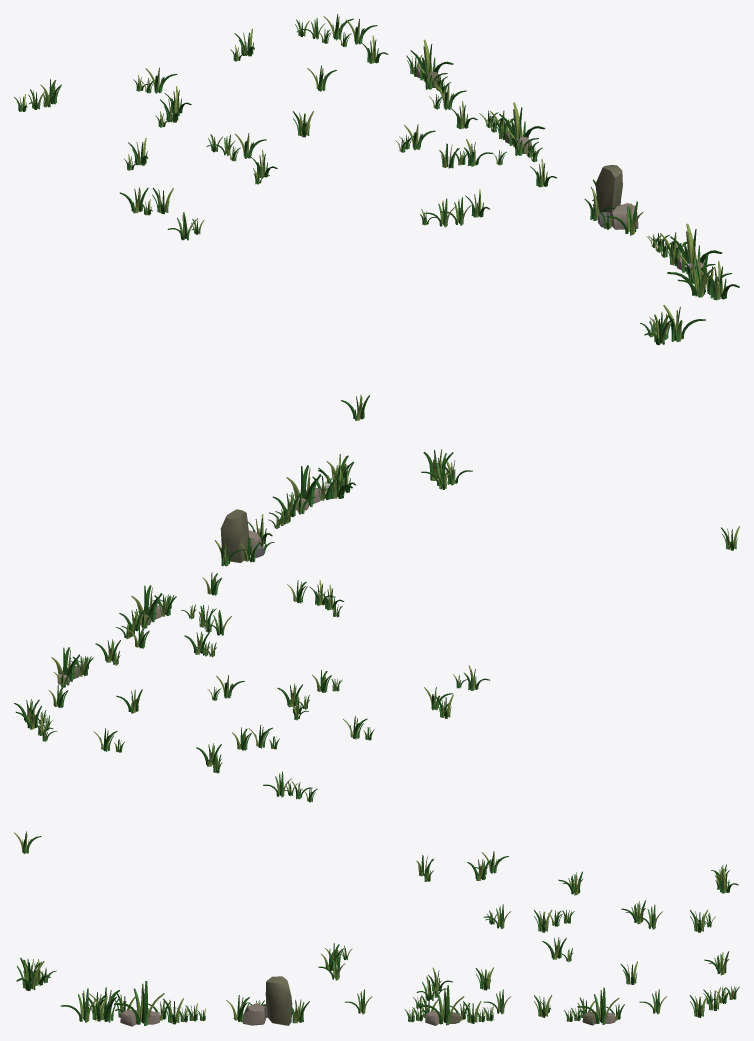
File: Grass.fbx
3 renders of one model, top to bottom at view 1: azimuth 30°, elevation 25°; view 2: azimuth 150°, elevation 25°; view 3: azimuth 270°, elevation 25°, orthographic. The views are drawn at different scales.
Parts seen in each view (by area): view 1: Stone_4_Low.001; view 2: Stone_4_Low.001; view 3: Stone_4_Low.001, Grass004.085, Grass004.076, Stone_2_Low.001, Grass004.070, Grass004.011, Grass004.092, Grass004.007.
Part boxes in pixels (box(x1,y1,x2,y2)): Stone_4_Low.001: box(595, 165, 622, 213); Stone_4_Low.001: box(220, 509, 249, 562); Stone_4_Low.001: box(265, 976, 292, 1025); Grass004.085: box(114, 981, 164, 1025); Grass004.076: box(419, 985, 464, 1025); Stone_2_Low.001: box(242, 1003, 265, 1025); Grass004.070: box(577, 987, 619, 1024); Grass004.011: box(16, 958, 44, 990); Grass004.092: box(89, 987, 120, 1022); Grass004.007: box(60, 988, 98, 1022).
Size of the model in its own units: 1060 by 123 by 1780.
